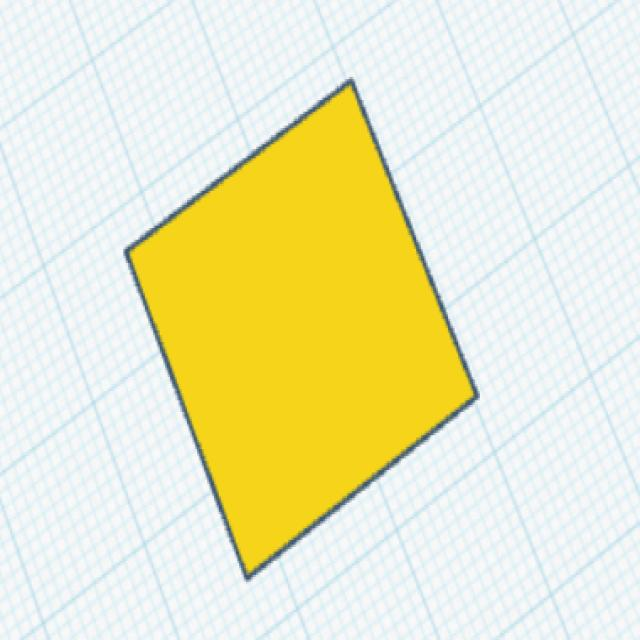cube: (120, 74, 483, 585)
